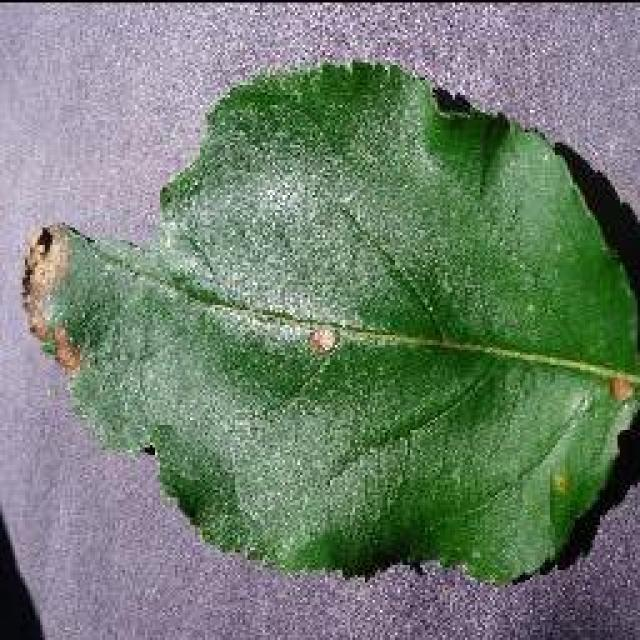apple black rot: (18, 55, 638, 587)
